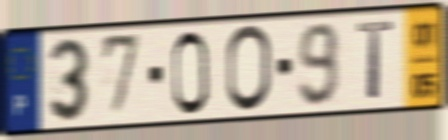0: (170, 28, 211, 118)
3: (45, 35, 92, 125)
7: (98, 31, 145, 122)
9: (296, 20, 343, 110)
O: (224, 22, 274, 115)
T: (355, 18, 398, 103)
